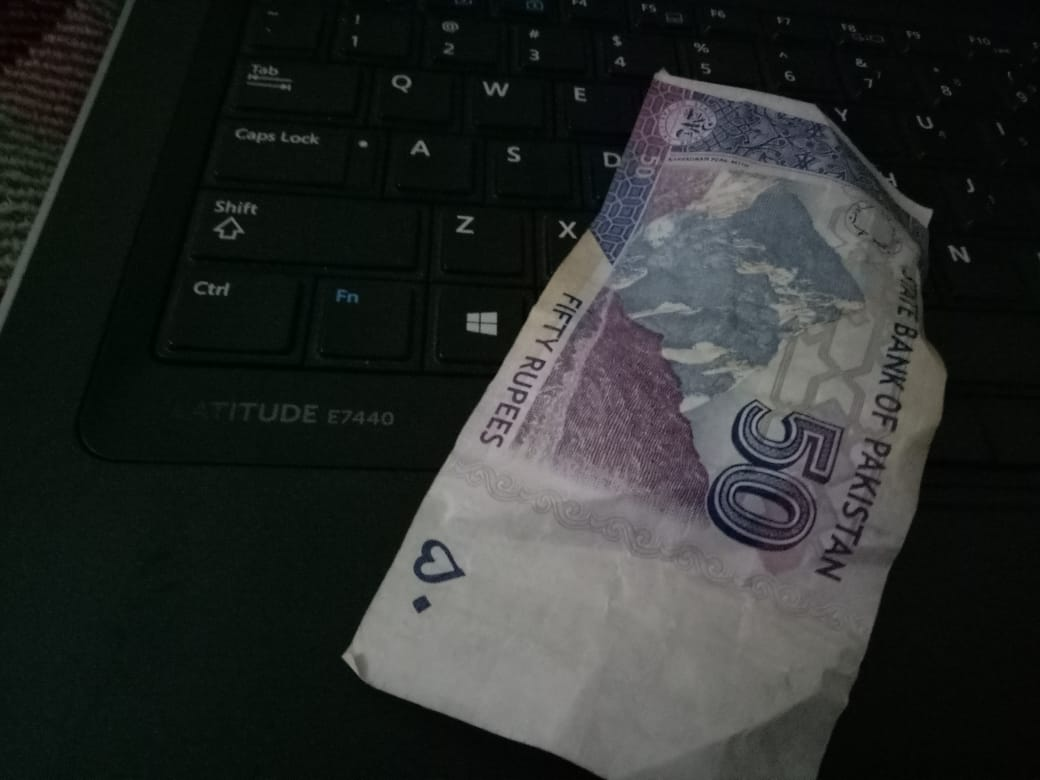50 rupee: (346, 60, 956, 773)
